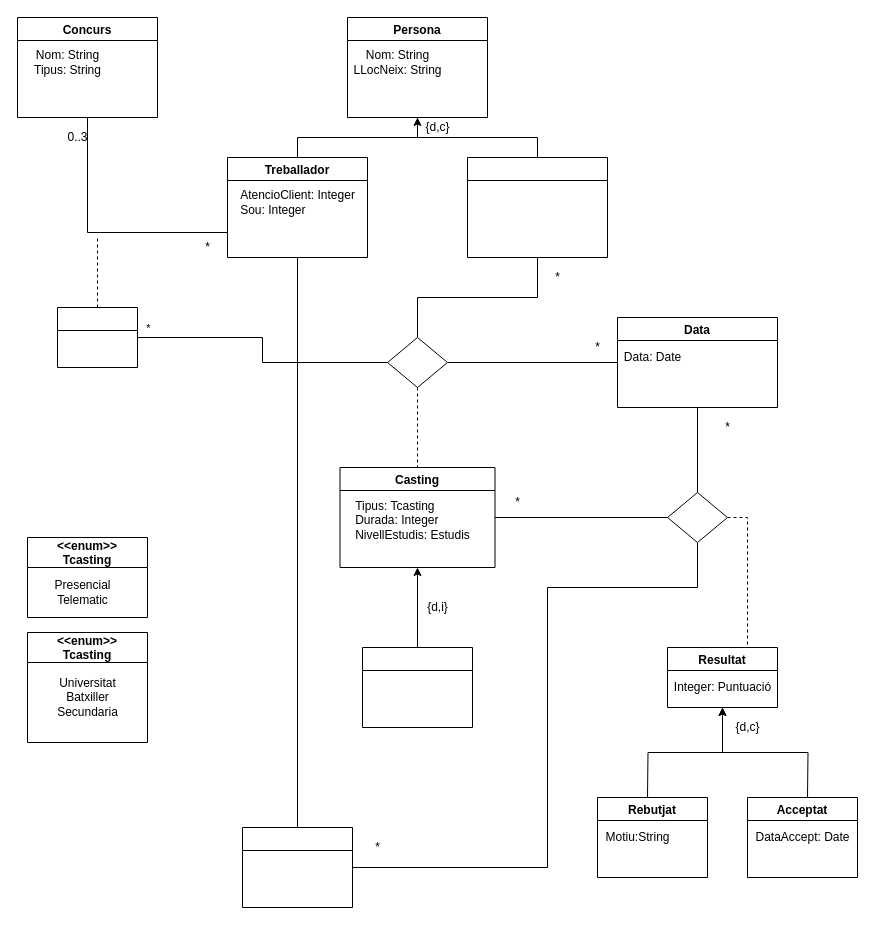
Image size: 875x925. Some labels were removed from this diagram. The shapes that lost their labels are listed below. From the top down, each one's centre as x and y in pixels, then its label:
the point at 537,207: Candidat
the point at 97,337: Entrevistador
the point at 417,687: Preseleccionat
the point at 297,867: Prova Aptitud
